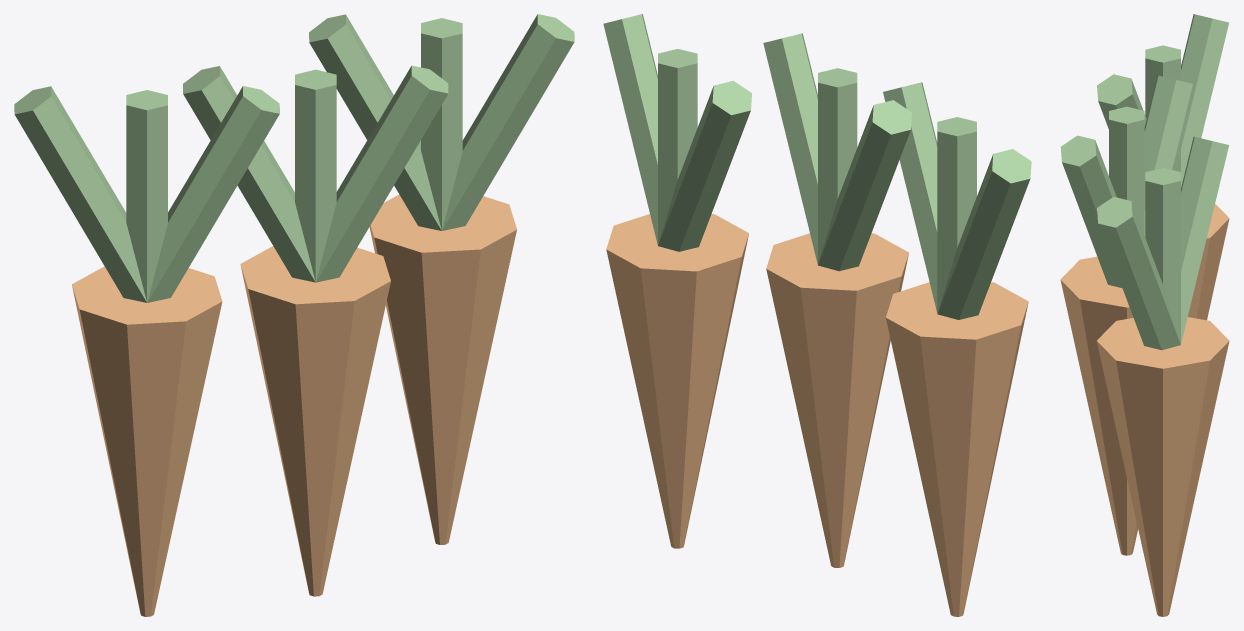
Rendered from meadow-courier-harvest-carrot-bunch__45.glb.
3 renders of one model, left to right at view 1: azimuth 30°, elevation 25°; view 2: azimuth 150°, elevation 25°; view 3: azimuth 270°, elevation 25°, orthographic. The views are drawn at different scales.
Visible parts, largest first — view 1: meadow-courier-carrot-bunch; view 2: meadow-courier-carrot-bunch; view 3: meadow-courier-carrot-bunch.
Boxes of the visible parts, x1,y1,x2,y2 form: meadow-courier-carrot-bunch: (14,14,574,616); meadow-courier-carrot-bunch: (603,14,1031,616); meadow-courier-carrot-bunch: (1060,14,1229,616).
Size of the model in its own units: 0.411 by 0.407 by 0.14.
